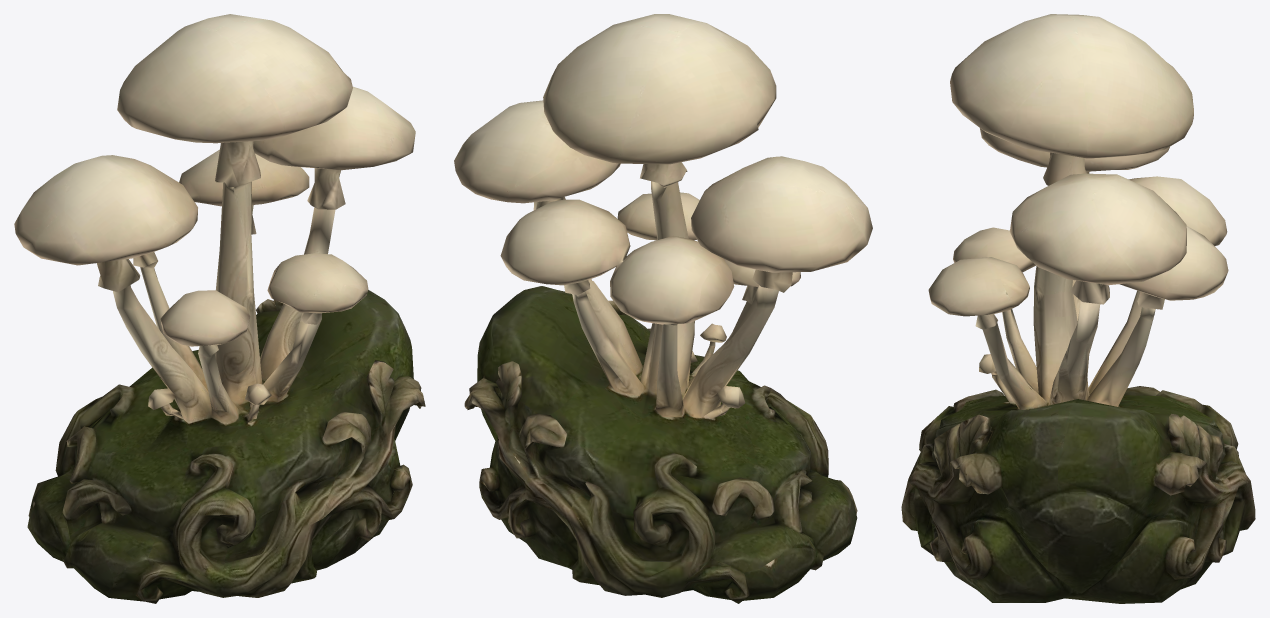
File: grotto_mushrooms_far.glb
3 renders of one model, left to right at view 1: azimuth 30°, elevation 25°; view 2: azimuth 150°, elevation 25°; view 3: azimuth 270°, elevation 25°, orthographic. The views are drawn at different scales.
Parts seen in each view (by area): view 1: tripo_node_03c30b14-a230-49cf-8802-cc454d7a4591; view 2: tripo_node_03c30b14-a230-49cf-8802-cc454d7a4591; view 3: tripo_node_03c30b14-a230-49cf-8802-cc454d7a4591.
Boxes of the visible parts, box(x1,y1,x2,y2) form: tripo_node_03c30b14-a230-49cf-8802-cc454d7a4591: box(14, 14, 425, 603); tripo_node_03c30b14-a230-49cf-8802-cc454d7a4591: box(454, 14, 872, 603); tripo_node_03c30b14-a230-49cf-8802-cc454d7a4591: box(901, 14, 1255, 603).
Bounding box in the file's own units: 0.7791 × 0.9781 × 0.5939.
Materials: 1 (1 with a texture image).
